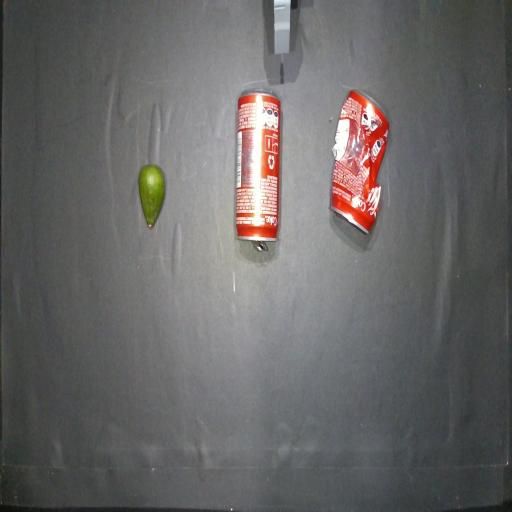higo: (139, 165, 165, 227)
lata: (236, 90, 281, 249)
lata_defectuoso: (330, 91, 389, 233)
